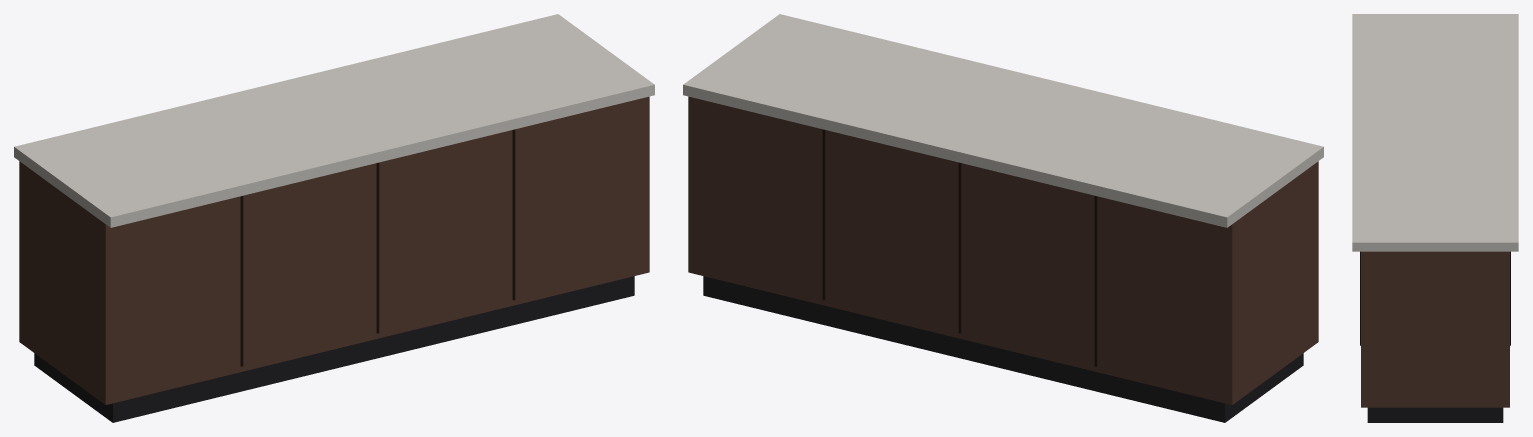
File: Counter_Straight_L96in.glb
The picture shows the model from 3 angles, left to right: view 1: azimuth 30°, elevation 25°; view 2: azimuth 150°, elevation 25°; view 3: azimuth 270°, elevation 25°; orthographic projection. The views are drawn at different scales.
Visible parts, largest first — view 1: Counter_Straight_L96in_Export; view 2: Counter_Straight_L96in_Export; view 3: Counter_Straight_L96in_Export.
Part boxes in pixels (x1=…): Counter_Straight_L96in_Export: x1=14, y1=14, x2=654, y2=422; Counter_Straight_L96in_Export: x1=683, y1=14, x2=1323, y2=422; Counter_Straight_L96in_Export: x1=1352, y1=14, x2=1518, y2=422.
Bounding box in the file's own units: 2.44 × 0.92 × 0.75.
